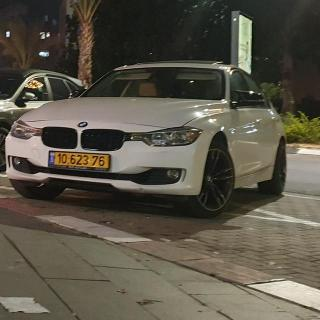LicensePlate: (55, 152, 109, 168)
